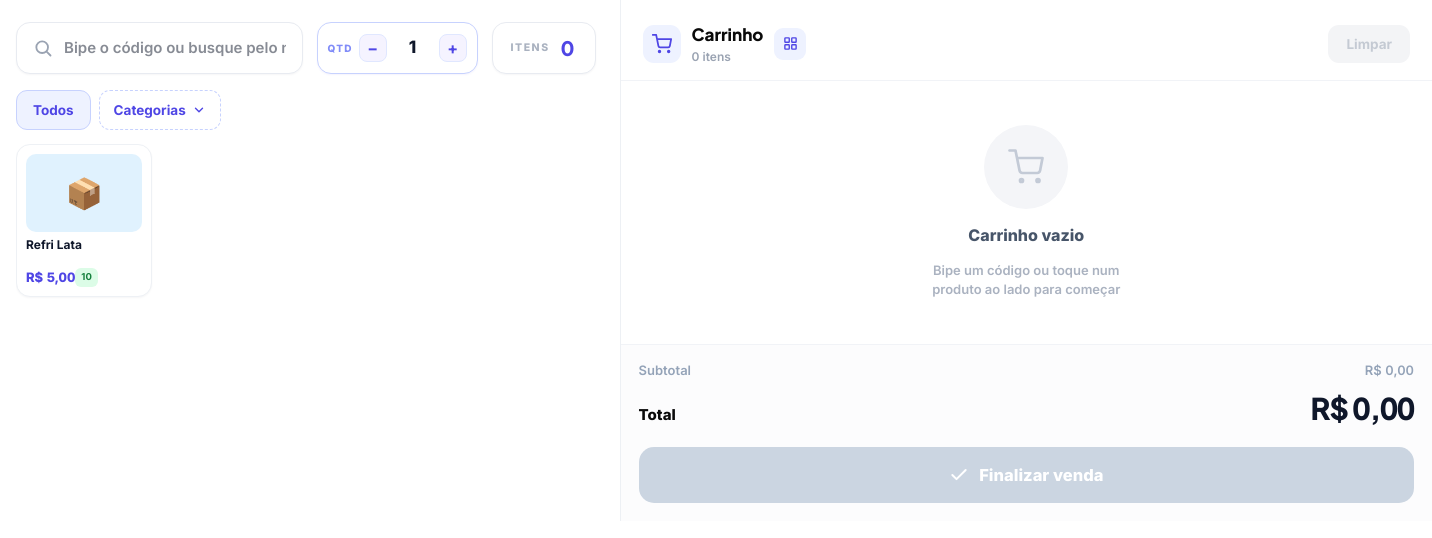
Test: CashierScreen toggle expandir/ocultar categorias (0025F) › toggle expande e recolhe os chips de categoria
Click the button with aria-label "Mostrar categorias". click: (160, 110)
box: [99,90,221,130]
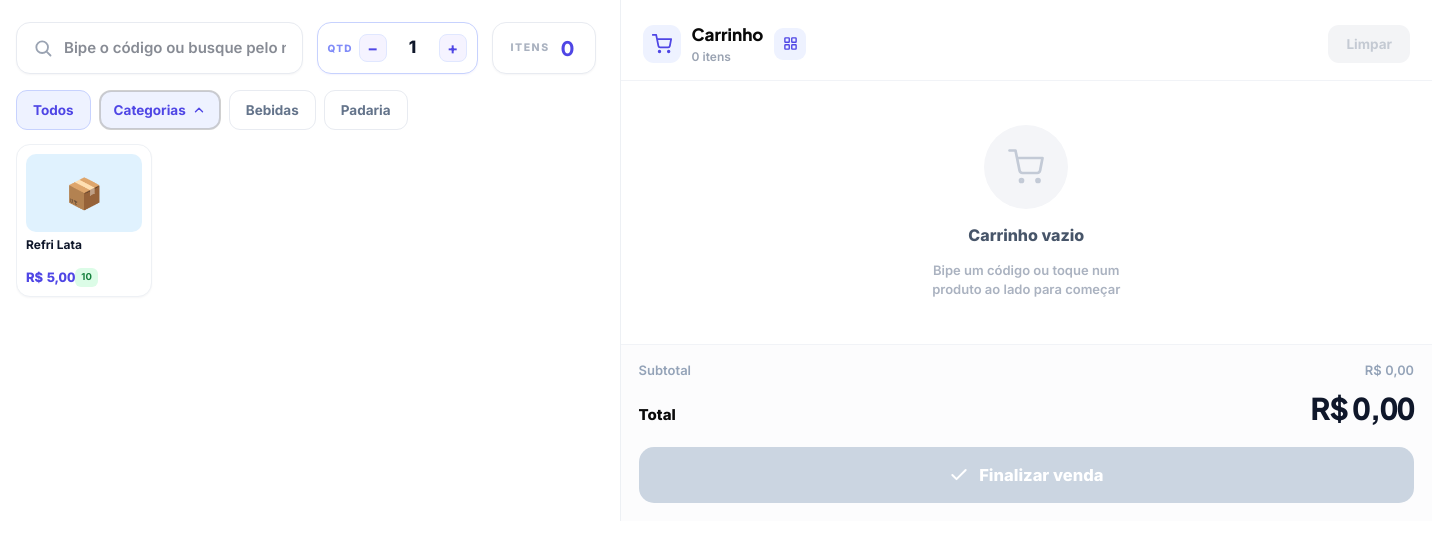
Expected: the button "Bebidas" is shown, [229,90,316,130]
Expected: the button "Padaria" is shown, [324,90,408,130]
Click the button with aria-label "Ocultar categorias". click: (160, 110)
box: [99,90,221,130]
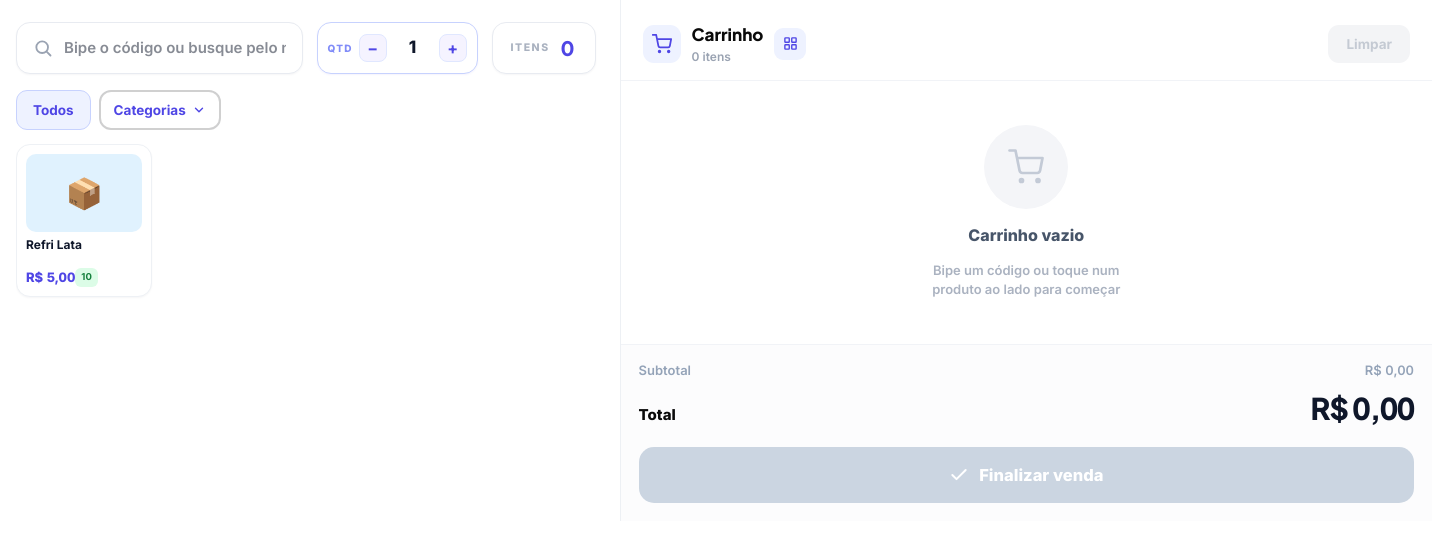
Expected: the button "Bebidas" is gone
Expected: the button "Padaria" is gone
